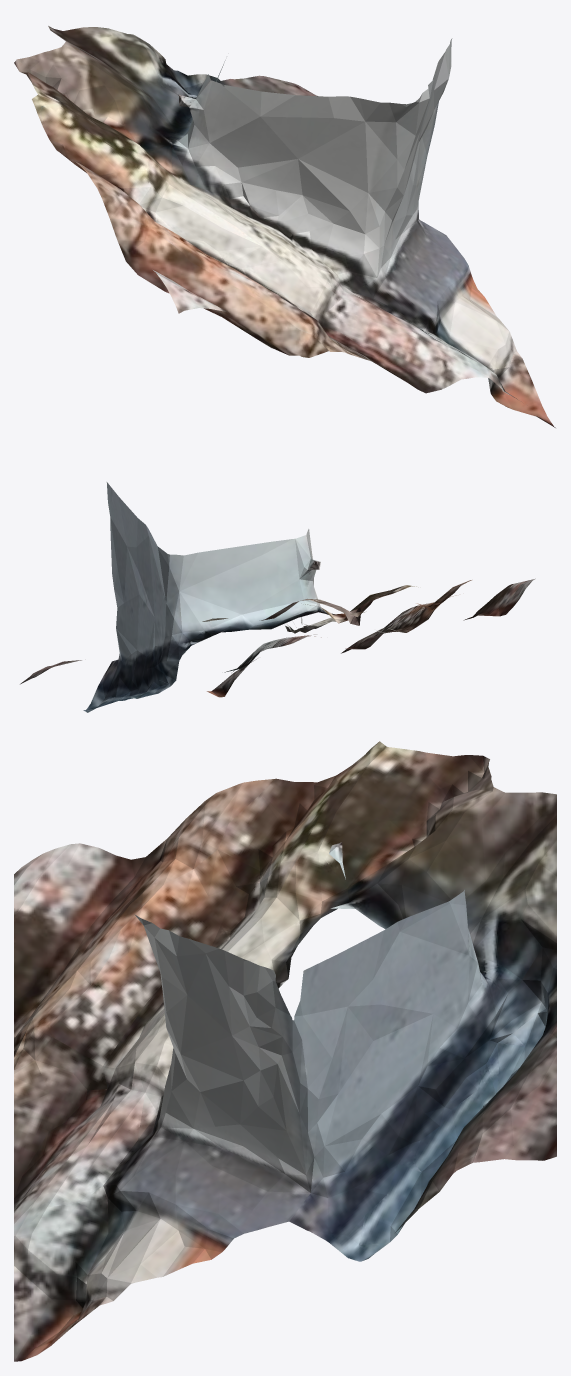
The picture shows the model from 3 angles, top to bottom: view 1: azimuth 30°, elevation 25°; view 2: azimuth 150°, elevation 25°; view 3: azimuth 270°, elevation 25°; orthographic projection. The views are drawn at different scales.
Bounding box in the file's own units: 0.8374 × 0.6653 × 0.8374.
4 materials, 4 textured.
